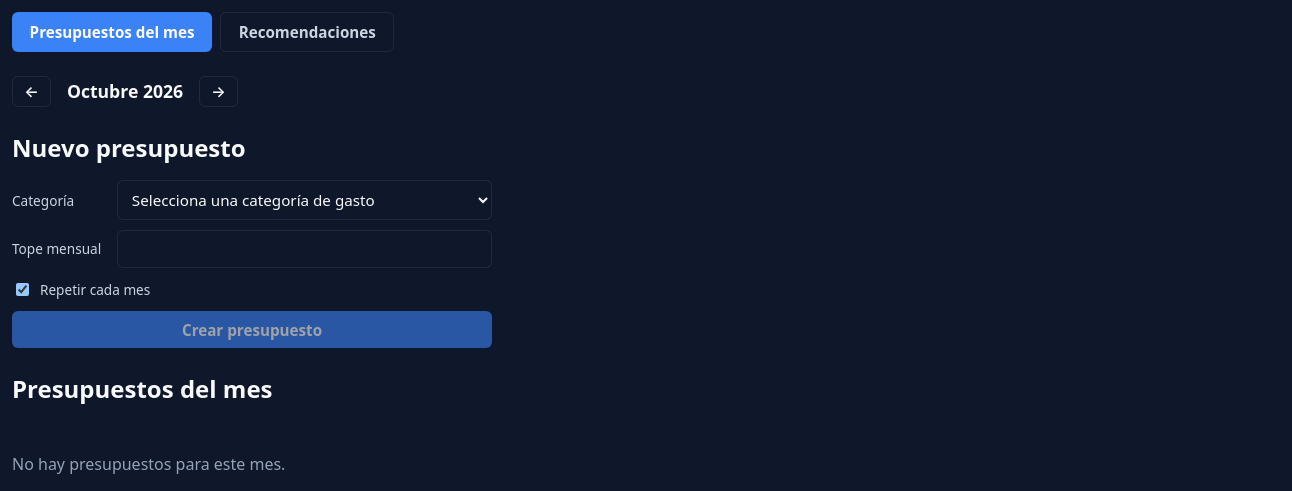
BudgetsPage › los meses pasados son de solo lectura
Click the button named "anterior".
click(31, 91)  # box [12,76,51,107]
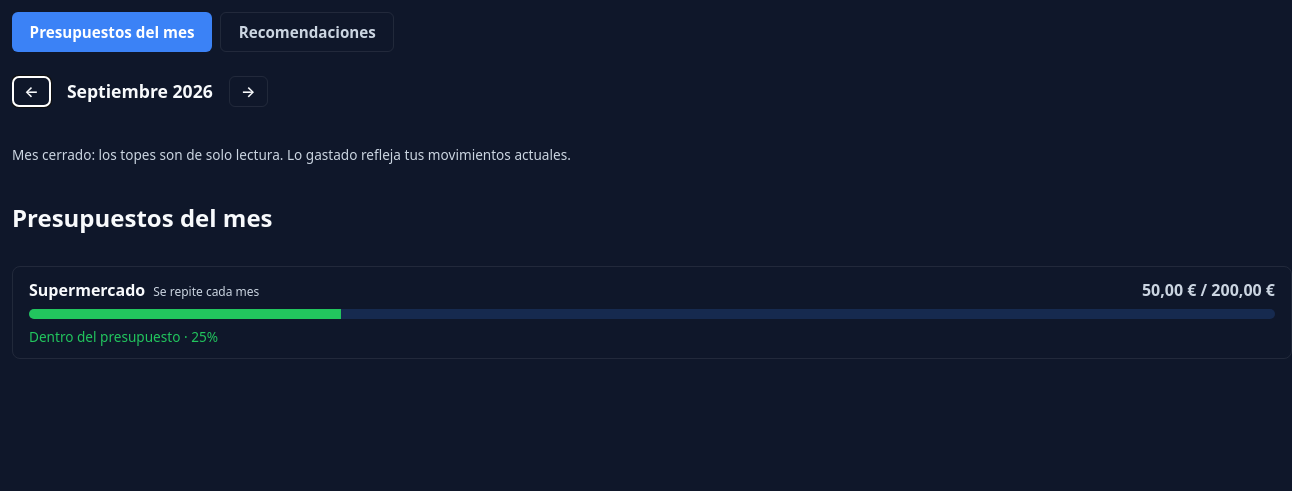
Check: the text "Supermercado" is shown, box [29,279,145,301]
Check: the text "Mes cerrado" is shown, box [12,145,571,164]
Check: the label labelled "Tope mensual" is gone
